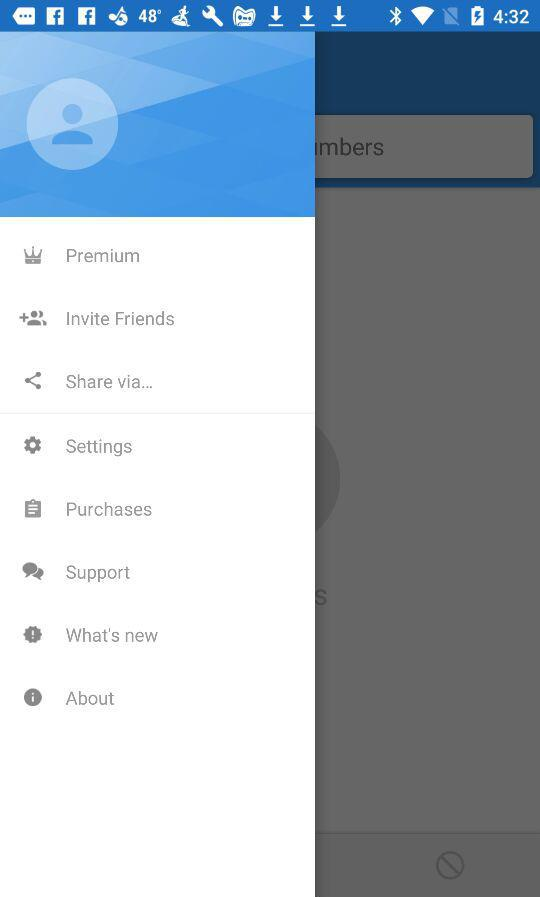Drawer: (1, 33, 315, 897)
Icon: (27, 78, 120, 172), (19, 310, 50, 328), (23, 562, 45, 581), (23, 626, 44, 644), (24, 688, 43, 707), (24, 436, 43, 455), (25, 499, 42, 519), (25, 372, 43, 390)
Image: (24, 245, 45, 266)
Text: (67, 310, 176, 328), (66, 627, 159, 644), (67, 501, 153, 518), (66, 374, 154, 390), (66, 438, 134, 458), (66, 565, 132, 584), (66, 248, 141, 264), (66, 691, 116, 706)
UpperTaskBar: (1, 1, 540, 33)
